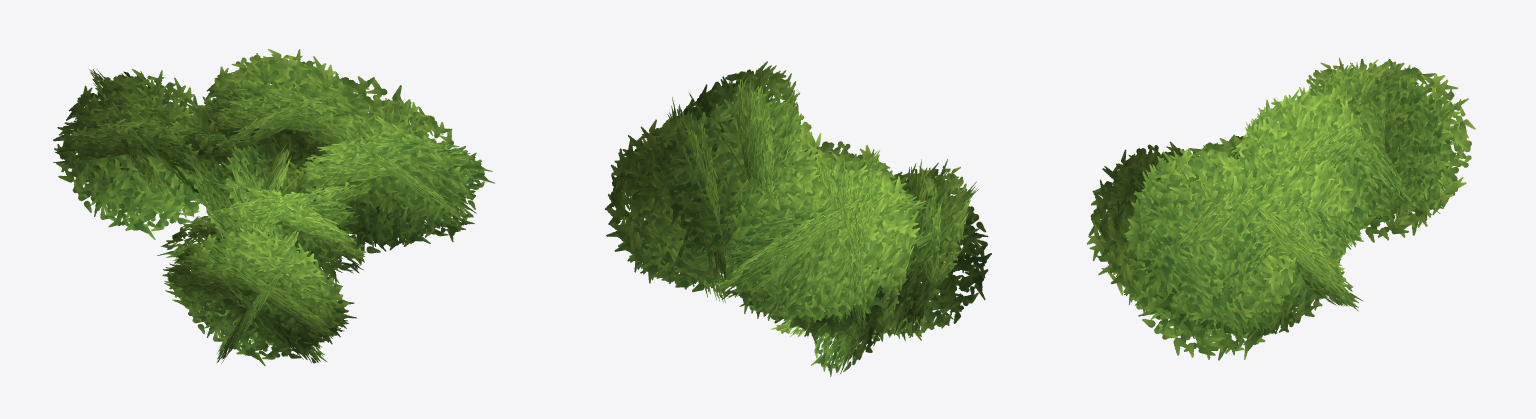
Rendered from tree-a.glb.
The picture shows the model from 3 angles, left to right: view 1: azimuth 30°, elevation 25°; view 2: azimuth 150°, elevation 25°; view 3: azimuth 270°, elevation 25°; orthographic projection. The views are drawn at different scales.
Visible parts, largest first — view 1: tree-a; view 2: tree-a; view 3: tree-a.
Boxes of the visible parts, x1=… form: tree-a: x1=53, y1=49, x2=494, y2=366; tree-a: x1=605, y1=61, x2=991, y2=376; tree-a: x1=1087, y1=58, x2=1475, y2=360.
Size of the model in its own units: 5.89 by 4.51 by 5.95.
Materials: 1 (1 with a texture image).
